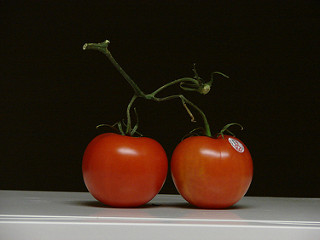tomato: (78, 121, 167, 210), (172, 121, 253, 210)
